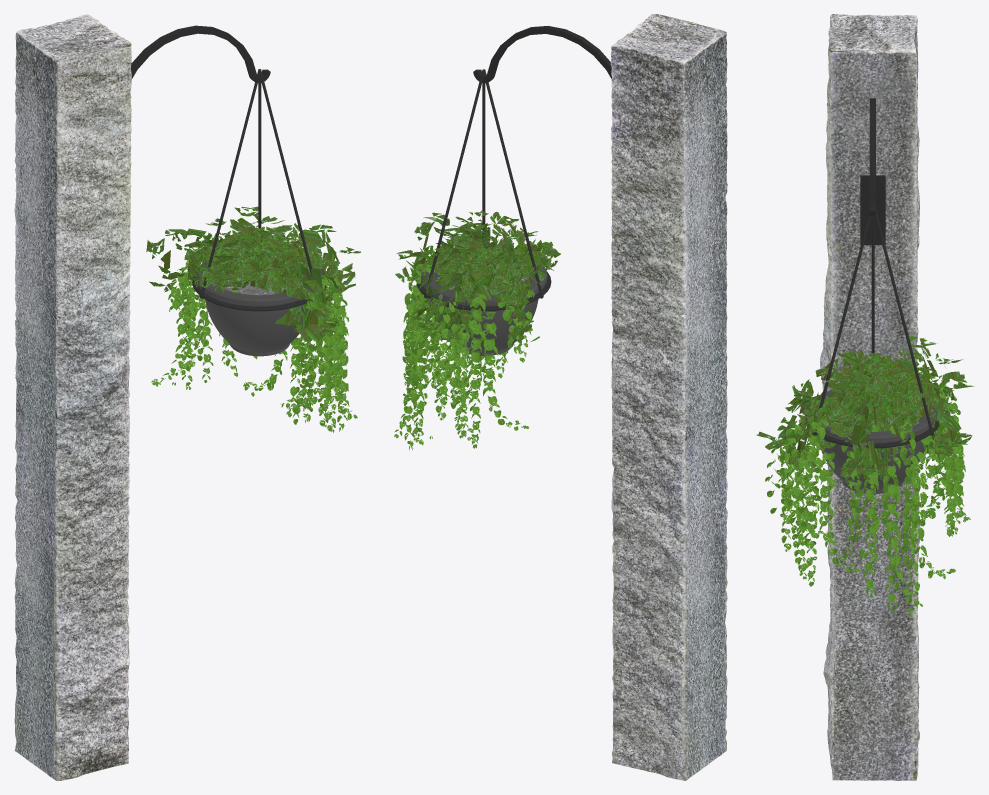
Rendered from plant.glb.
3 renders of one model, left to right at view 1: azimuth 30°, elevation 25°; view 2: azimuth 150°, elevation 25°; view 3: azimuth 270°, elevation 25°, orthographic.
Parts seen in each view (by area): view 1: Material2 (×6); view 2: Material2 (×6); view 3: Material2 (×6).
Boxes of the visible parts, x1,y1,x2,y2 form: Material2 (×6): (14, 14, 360, 780); Material2 (×6): (394, 14, 727, 780); Material2 (×6): (756, 14, 974, 780).
Bounding box in the file's own units: 0.7234 × 1.6 × 0.4333.
9 materials, 6 textured.
